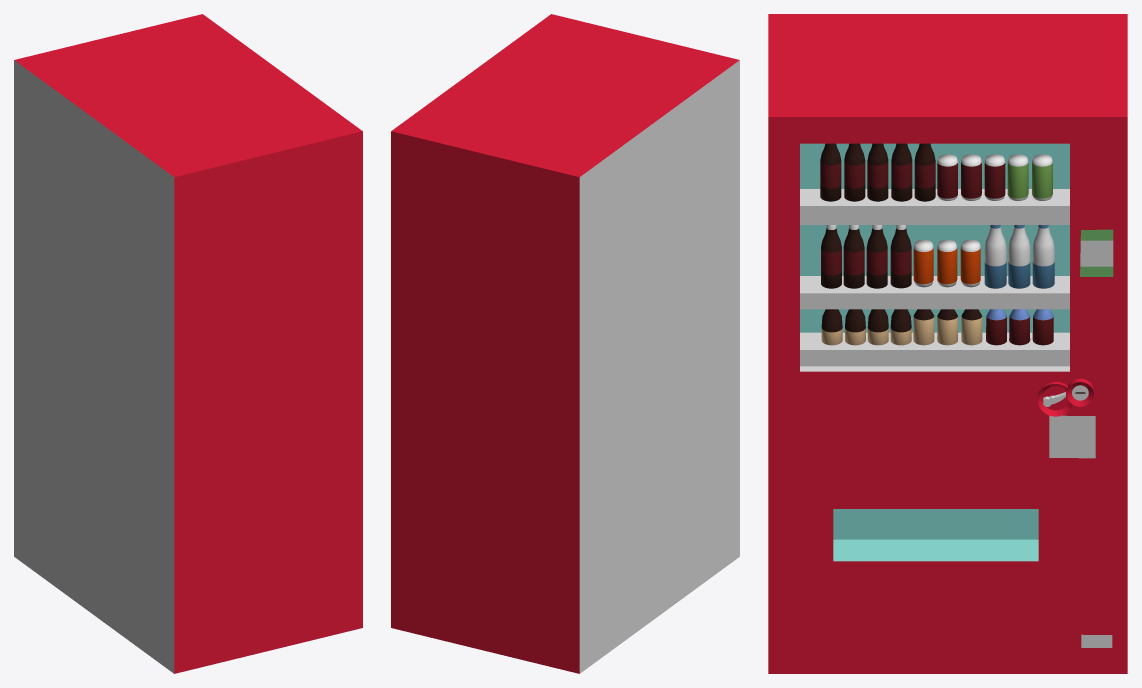
The model's file is sodamachine.fbx.
The picture shows the model from 3 angles, left to right: view 1: azimuth 30°, elevation 25°; view 2: azimuth 150°, elevation 25°; view 3: azimuth 270°, elevation 25°; orthographic projection. The views are drawn at different scales.
Parts seen in each view (by area): view 1: Cube; view 2: Cube; view 3: Cube, Cylinder.029, Cylinder.027, Cylinder.028, Cylinder.007, Cylinder.006, Cylinder.008, Cylinder.005, Cylinder.003, Cylinder.001, Cylinder.002, Cylinder.004 (+21 smaller).
Boxes of the visible parts, x1,y1,x2,y2 form: Cube: [14, 14, 362, 673]; Cube: [391, 14, 739, 673]; Cube: [768, 14, 1127, 673]; Cylinder.029: [1032, 225, 1054, 288]; Cylinder.027: [984, 225, 1006, 288]; Cylinder.028: [1008, 225, 1030, 288]; Cylinder.007: [866, 225, 887, 288]; Cylinder.006: [843, 225, 864, 288]; Cylinder.008: [890, 225, 911, 288]; Cylinder.005: [821, 225, 841, 288]; Cylinder.003: [891, 143, 912, 201]; Cylinder.001: [844, 143, 865, 201]; Cylinder.002: [867, 143, 888, 201]; Cylinder.004: [914, 143, 935, 201].
Size of the model in its own units: 207 by 503 by 294.
